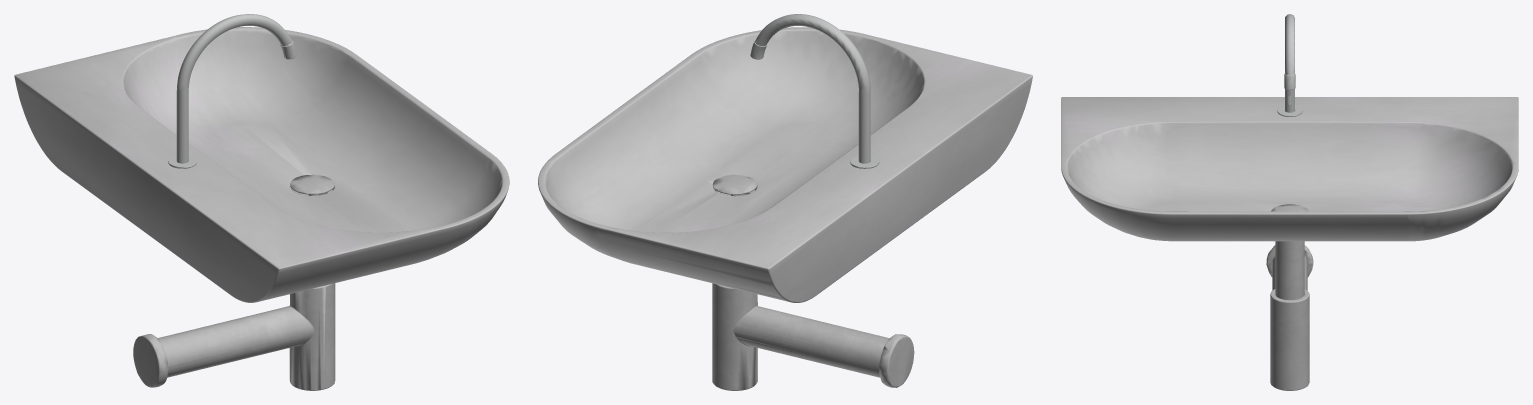
Rendered from washBasin_a01.glb.
3 renders of one model, left to right at view 1: azimuth 30°, elevation 25°; view 2: azimuth 150°, elevation 25°; view 3: azimuth 270°, elevation 25°, orthographic. The views are drawn at different scales.
Visible parts, largest first — view 1: sm_washBasin_a01_01; view 2: sm_washBasin_a01_01; view 3: sm_washBasin_a01_01.
Part boxes in pixels (box(x1,y1,x2,y2)): sm_washBasin_a01_01: box(14, 14, 509, 390); sm_washBasin_a01_01: box(538, 14, 1032, 390); sm_washBasin_a01_01: box(1061, 14, 1518, 390).
Size of the model in its own units: 0.3495 by 0.4609 by 0.5761.
4 materials, 3 textured.
